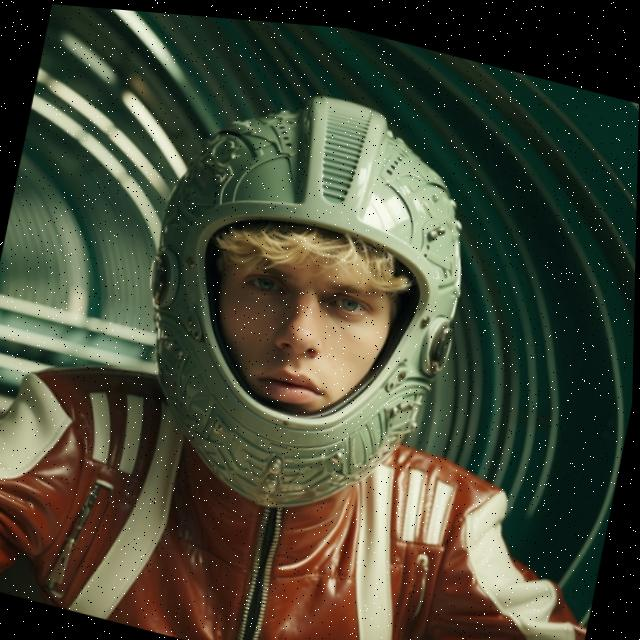illegal_helmet: (103, 42, 508, 554)
